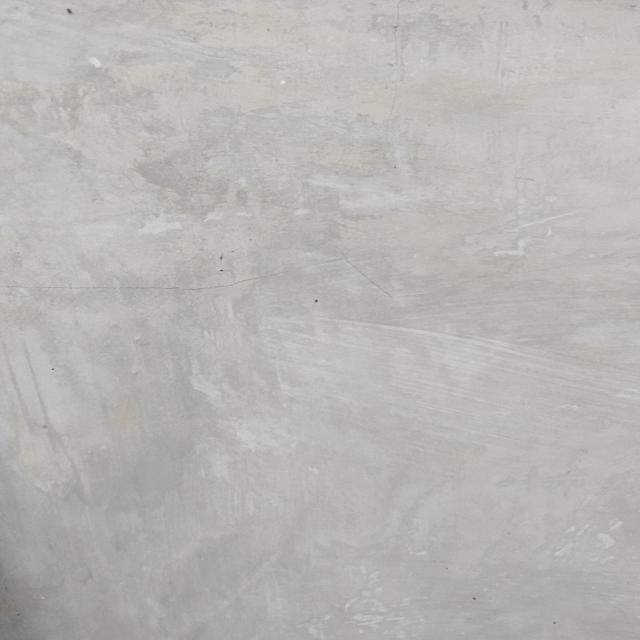Crack: (1, 252, 601, 300)
